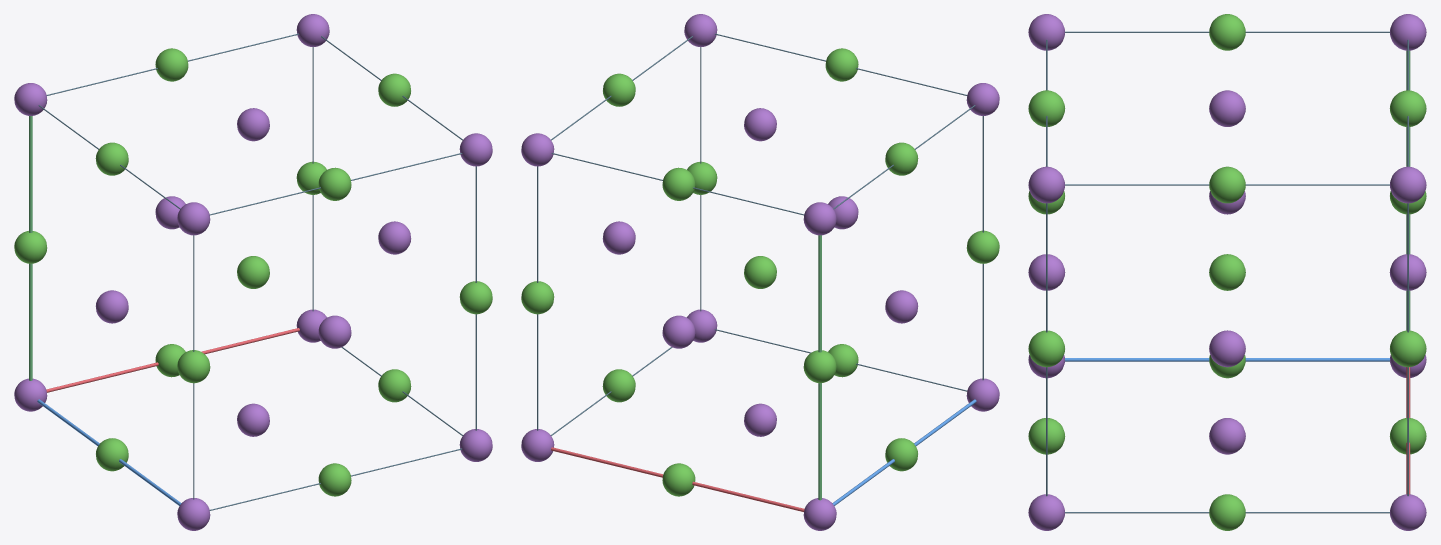
The model's file is sylvite.glb.
3 views of the same model, side by side, from view 1: azimuth 30°, elevation 25°; view 2: azimuth 150°, elevation 25°; view 3: azimuth 270°, elevation 25° (orthographic). The views are drawn at different scales.
Parts seen in each view (by area): view 1: K · K · 1 (×14), Cl · Cl · 1 (×13), Ô mạng và các trục a, b, c; view 2: K · K · 1 (×14), Cl · Cl · 1 (×13), Ô mạng và các trục a, b, c; view 3: K · K · 1 (×11), Cl · Cl · 1 (×10), Ô mạng và các trục a, b, c.
Boxes of the visible parts, box(x1,y1,x2,y2) form: K · K · 1 (×14): box(14, 14, 492, 530); Cl · Cl · 1 (×13): box(14, 48, 492, 496); Ô mạng và các trục a, b, c: box(29, 33, 476, 510); K · K · 1 (×14): box(521, 14, 999, 530); Cl · Cl · 1 (×13): box(521, 48, 999, 496); Ô mạng và các trục a, b, c: box(537, 33, 983, 511); K · K · 1 (×11): box(1028, 14, 1426, 530); Cl · Cl · 1 (×10): box(1028, 14, 1426, 530); Ô mạng và các trục a, b, c: box(1046, 31, 1410, 513).
Bounding box in the file's own units: 6.93 × 6.93 × 6.93.
